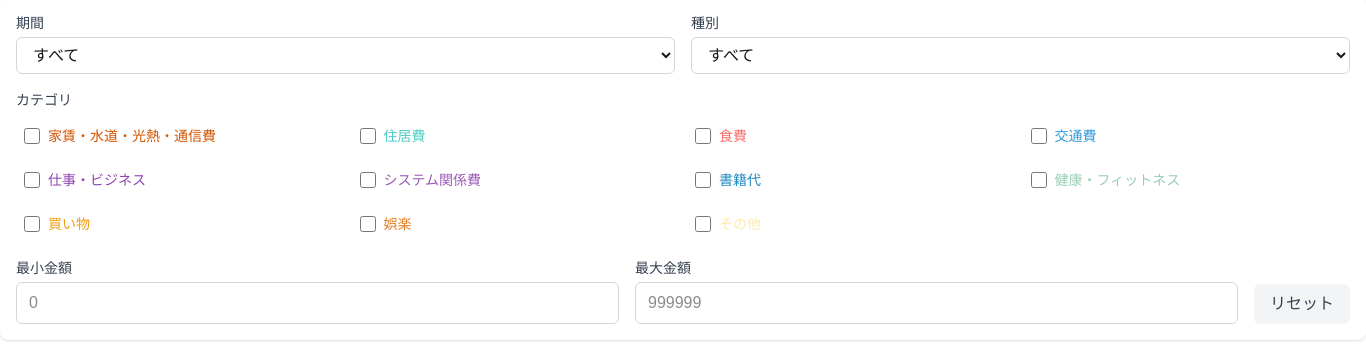
Test: ExpenseFilters › 期間フィルター › カスタム期間を選択すると日付入力フィールドが表示される
Select "カスタム期間" in the dropdown labelled "期間": [346, 56] box [16,37,675,74]
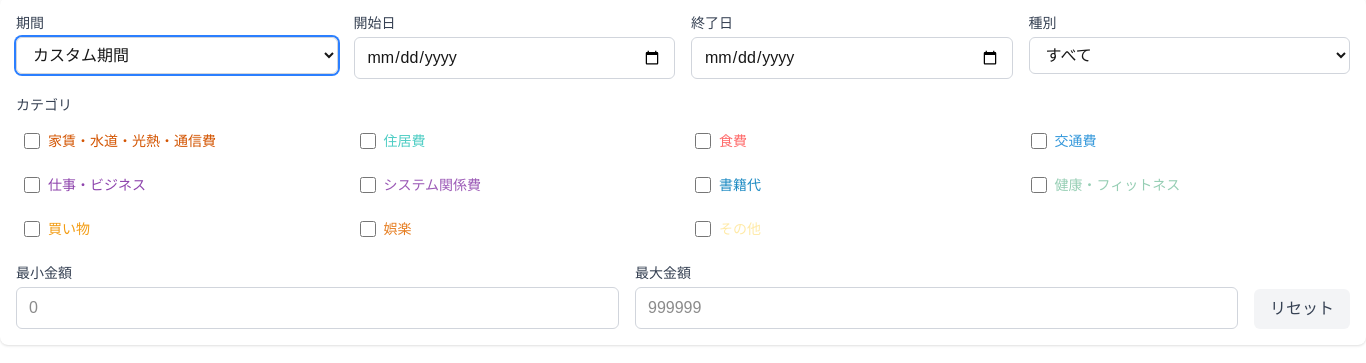
Expected: the date field labelled "開始日" is shown, [354,37,675,79]
Expected: the date field labelled "終了日" is shown, [691,37,1012,79]
